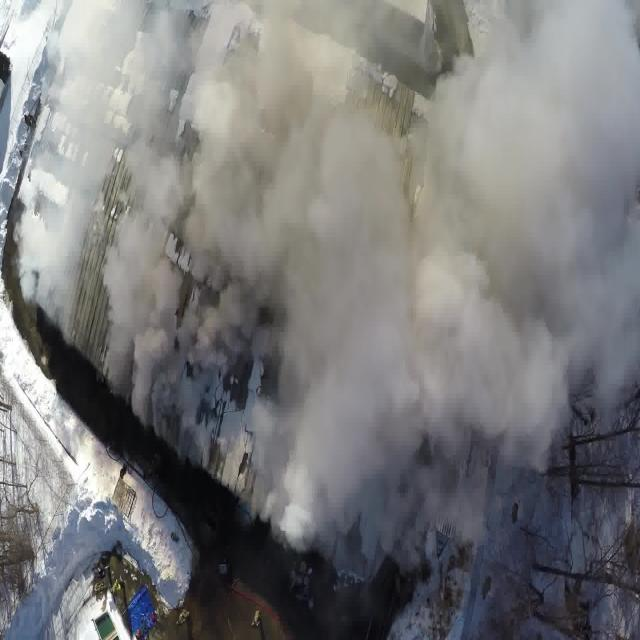Smoke: (25, 1, 640, 546)
